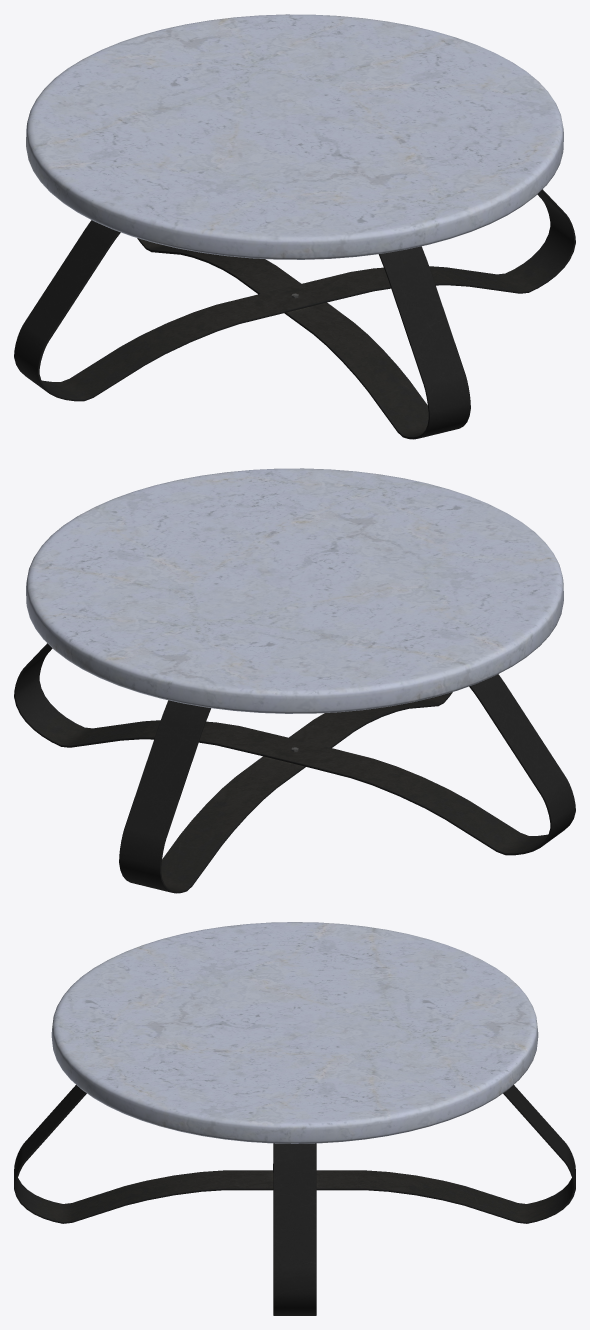
The model's file is coffee_table_round_01.glb.
The picture shows the model from 3 angles, top to bottom: view 1: azimuth 30°, elevation 25°; view 2: azimuth 150°, elevation 25°; view 3: azimuth 270°, elevation 25°; orthographic projection. The views are drawn at different scales.
Visible parts, largest first — view 1: coffee_table_round_01; view 2: coffee_table_round_01; view 3: coffee_table_round_01.
Boxes of the visible parts, box(x1,y1,x2,y2) form: coffee_table_round_01: box(14, 14, 575, 439); coffee_table_round_01: box(14, 468, 575, 893); coffee_table_round_01: box(14, 922, 575, 1315).
Size of the model in its own units: 1.99 by 0.75 by 1.99.
Materials: 1 (1 with a texture image).
